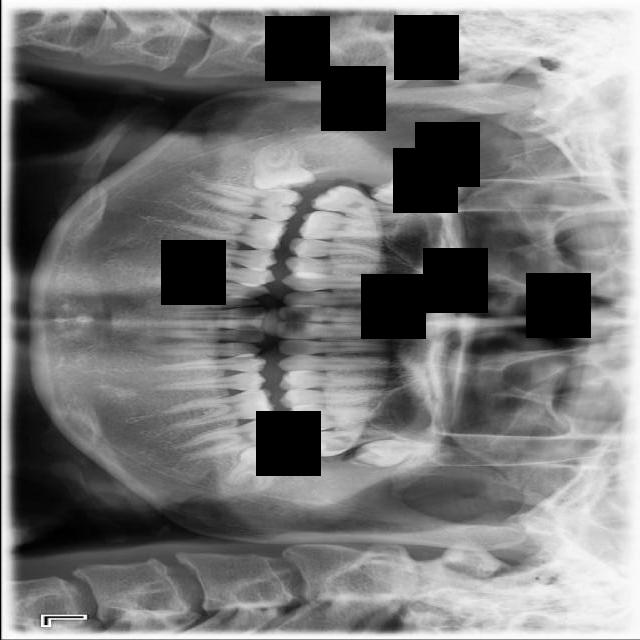3M ESPE Implant: (366, 173, 454, 214)
73: (58, 617, 74, 621)
BioHorizons Implant: (298, 426, 397, 459)
BioLife Implant: (351, 433, 434, 471)
Biomet 3i Implant: (224, 442, 302, 498)
Blue Sky Bio Implant: (176, 415, 290, 461)
Caries: (309, 180, 421, 229)
Implant: (193, 180, 303, 223)
Keystone Dental Implant: (250, 144, 315, 195)
